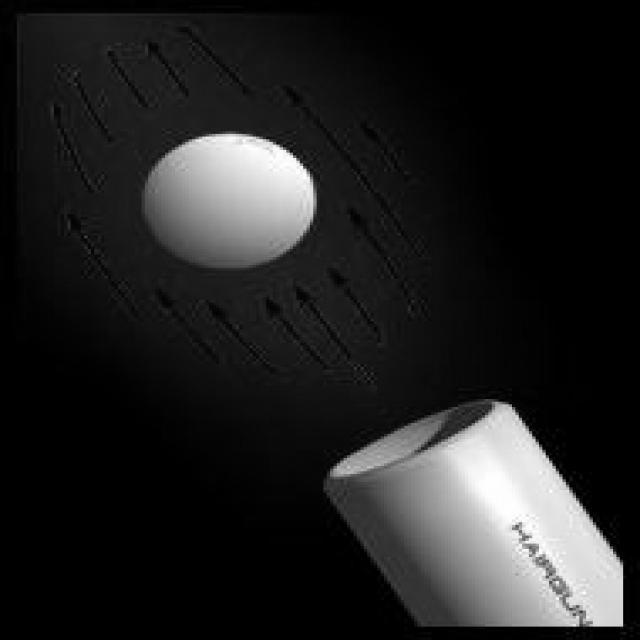ping-pong-ball: (142, 133, 318, 270)
